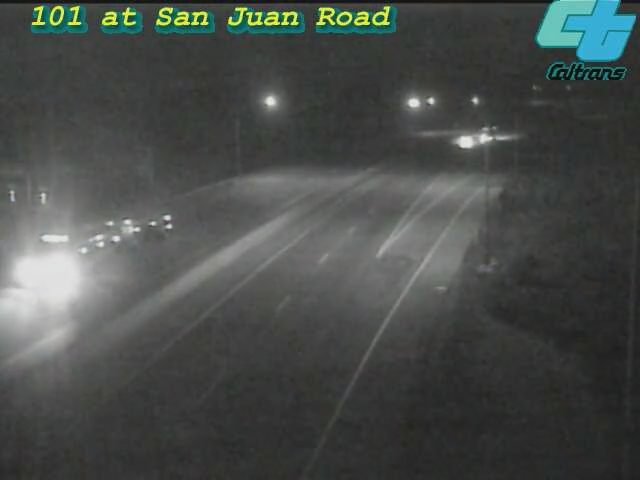vehicle: (35, 220, 115, 300), (470, 107, 520, 157), (445, 115, 495, 165)
